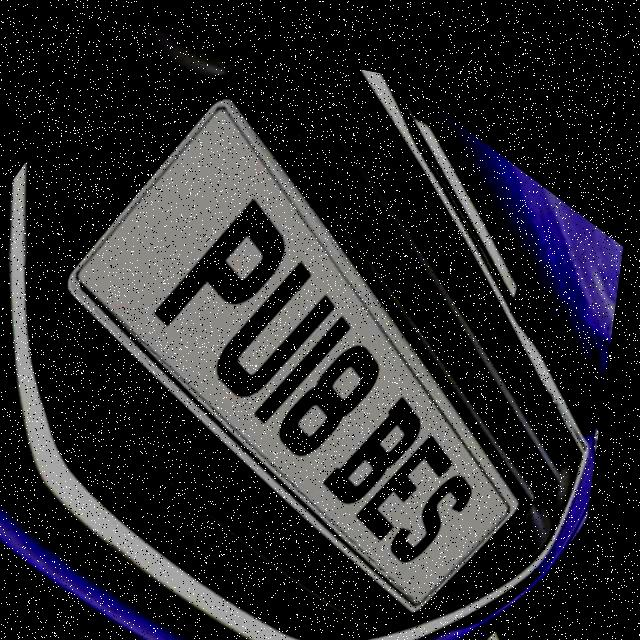license_plate: (26, 62, 621, 639)
